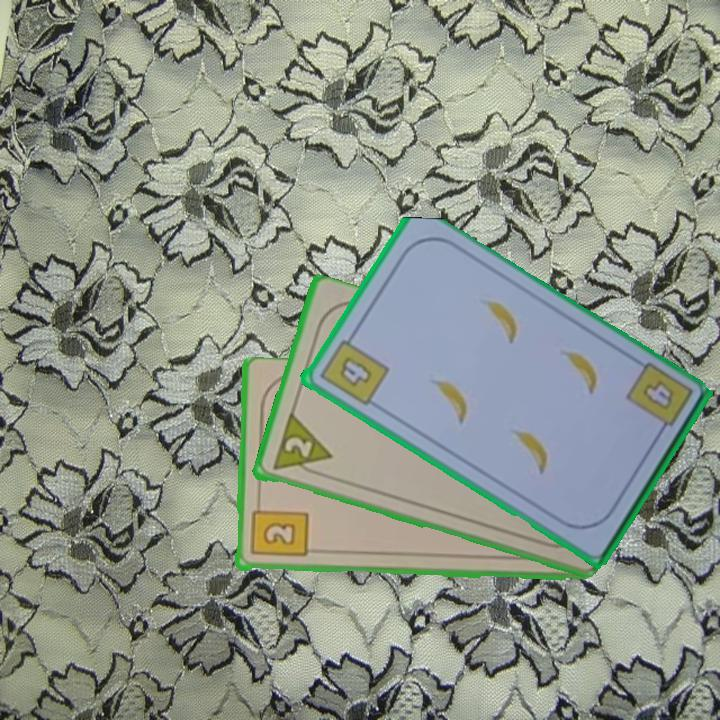2b: (247, 498, 310, 561)
2p: (280, 433, 315, 462)
4b: (315, 329, 391, 409), (638, 377, 677, 414)
